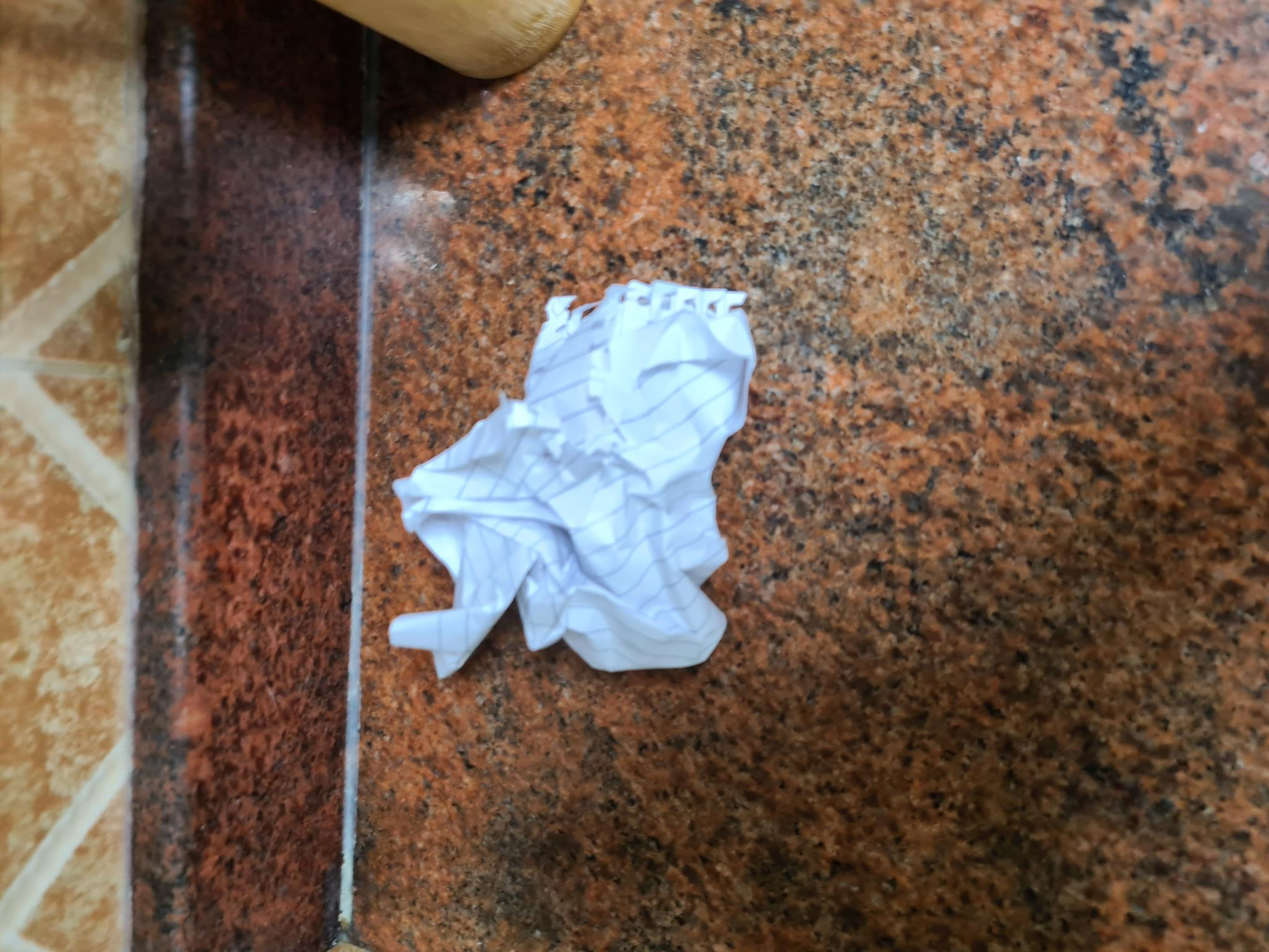Kertas: (275, 389, 671, 756)
